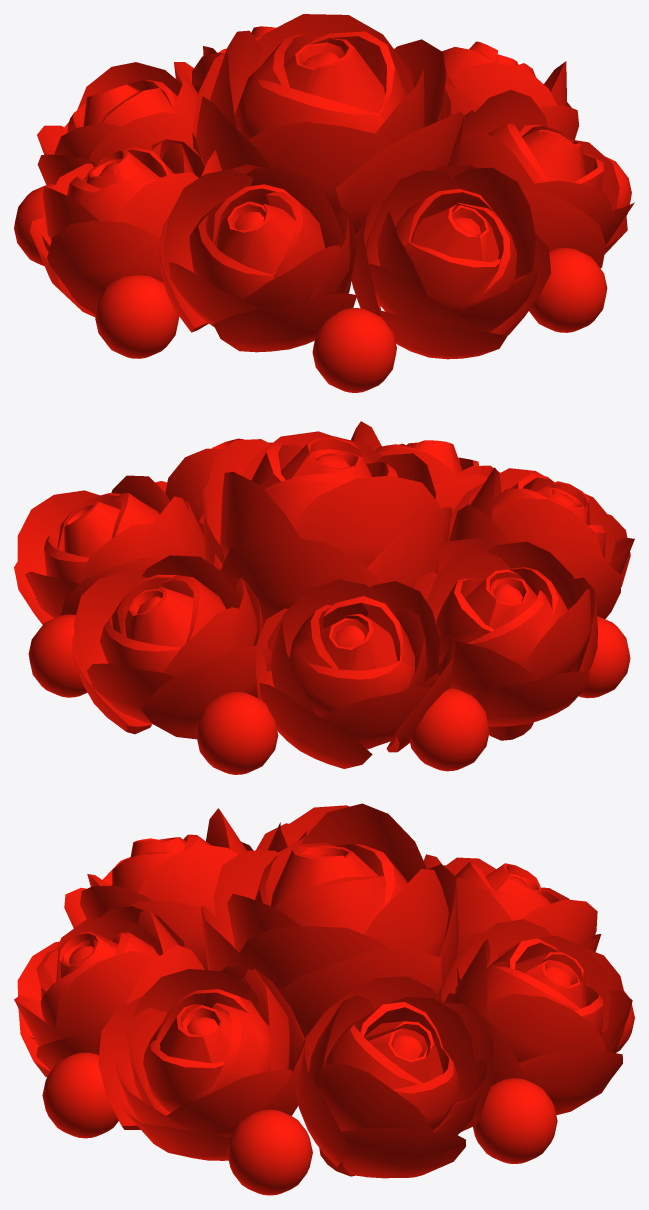
The model's file is Cake_ThemeFLowers_F.FBX.
The picture shows the model from 3 angles, top to bottom: view 1: azimuth 30°, elevation 25°; view 2: azimuth 150°, elevation 25°; view 3: azimuth 270°, elevation 25°; orthographic projection. The views are drawn at different scales.
Visible parts, largest first — view 1: Cake_ThemeFLowers_F; view 2: Cake_ThemeFLowers_F; view 3: Cake_ThemeFLowers_F.
Boxes of the visible parts, box(x1,y1,x2,y2) form: Cake_ThemeFLowers_F: box(14, 14, 634, 392); Cake_ThemeFLowers_F: box(14, 421, 634, 774); Cake_ThemeFLowers_F: box(14, 803, 634, 1195).
Bounding box in the file's own units: 121449 × 53999 × 118815.
